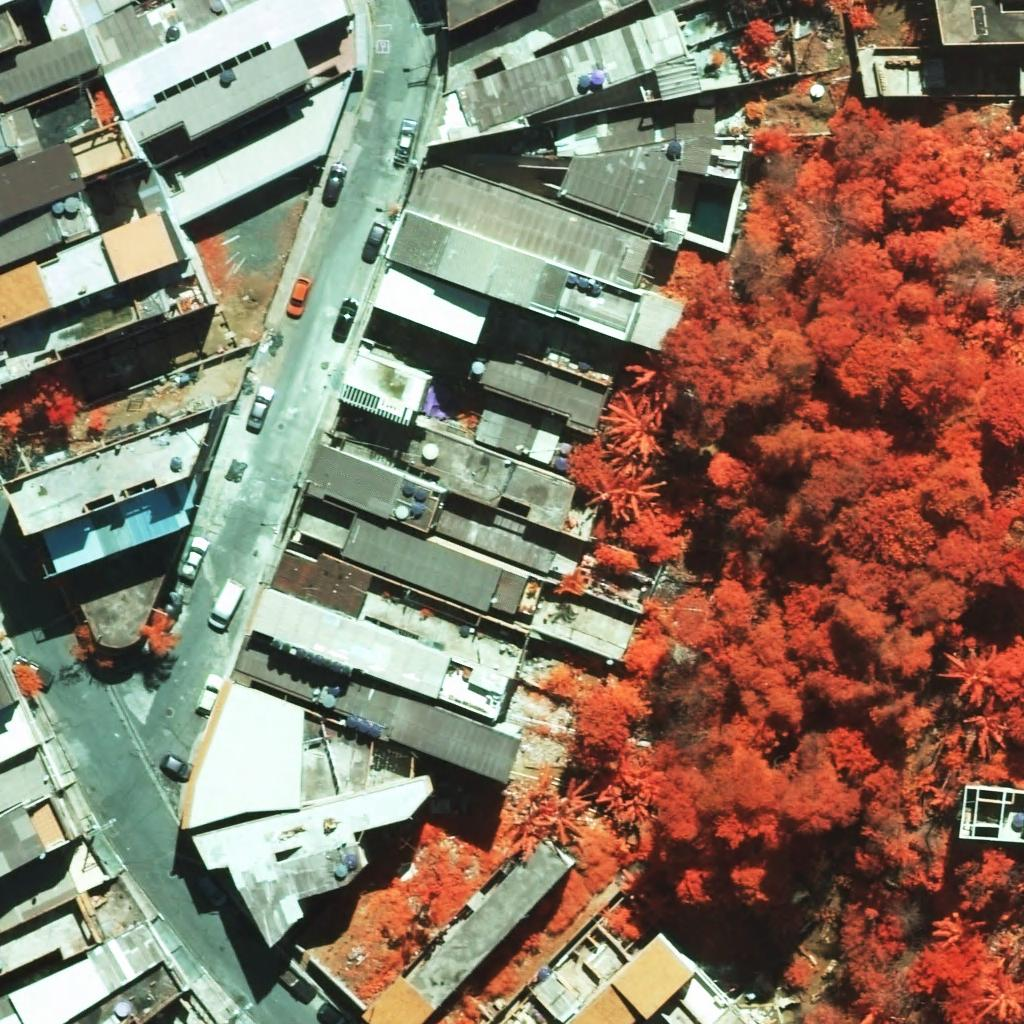pool: (687, 182, 734, 243)
